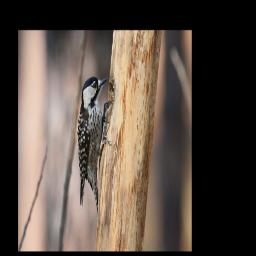Woodpecker: (78, 75, 113, 211)
